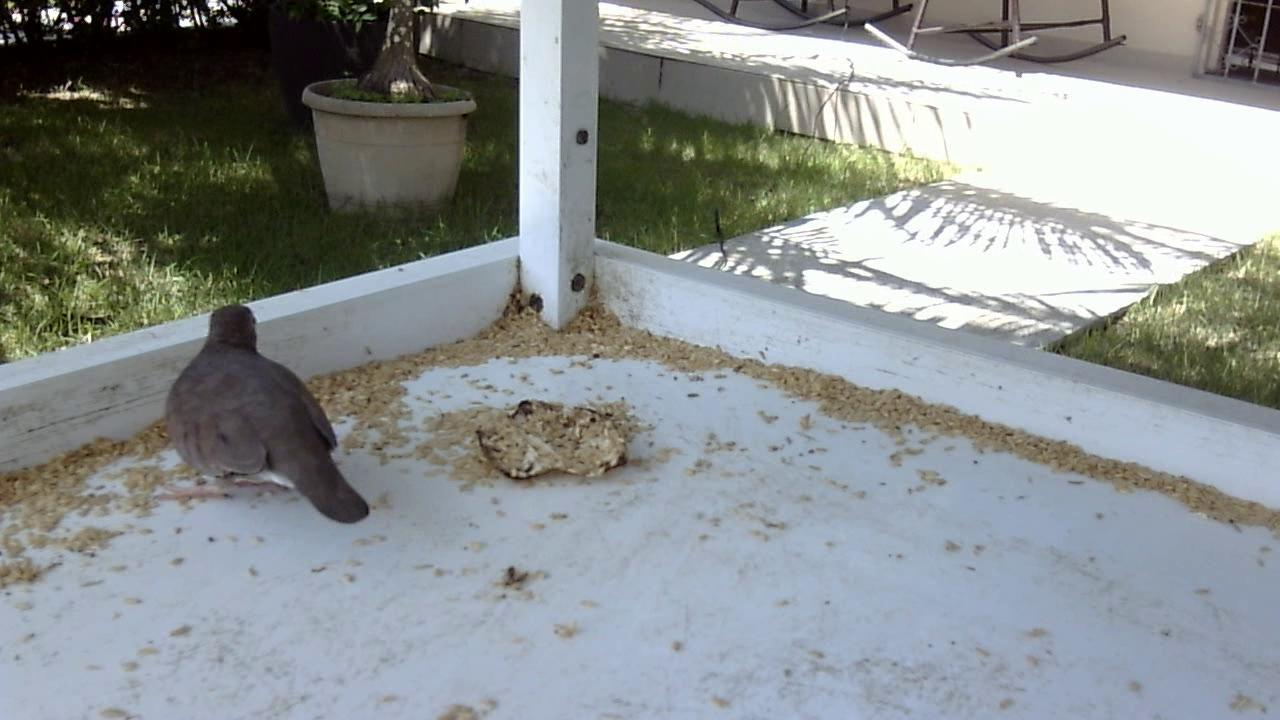rolinha: (159, 302, 370, 526)
